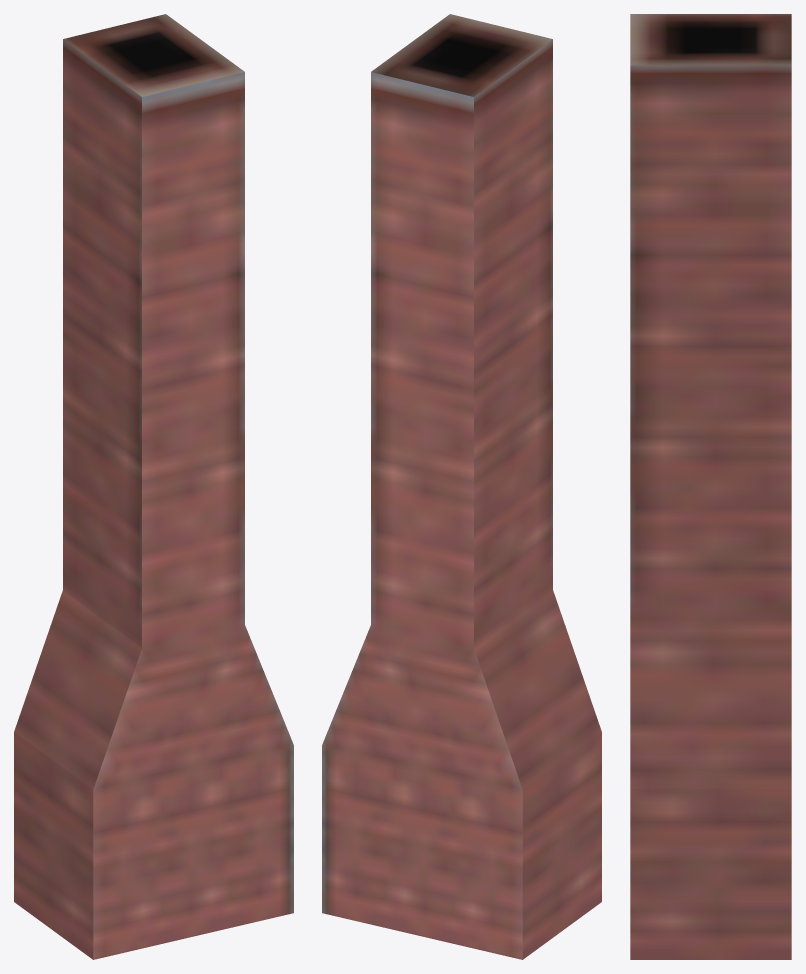
Rendered from CHIMNEY02.glb.
3 views of the same model, side by side, from view 1: azimuth 30°, elevation 25°; view 2: azimuth 150°, elevation 25°; view 3: azimuth 270°, elevation 25° (orthographic). The views are drawn at different scales.
Parts seen in each view (by area): view 1: CHIMNEY02; view 2: CHIMNEY02; view 3: CHIMNEY02.
Boxes of the visible parts, x1,y1,x2,y2 form: CHIMNEY02: [14, 14, 293, 959]; CHIMNEY02: [322, 14, 601, 959]; CHIMNEY02: [630, 14, 791, 959].
Size of the model in its own units: 296 by 1203 by 202.
Materials: 1 (1 with a texture image).
